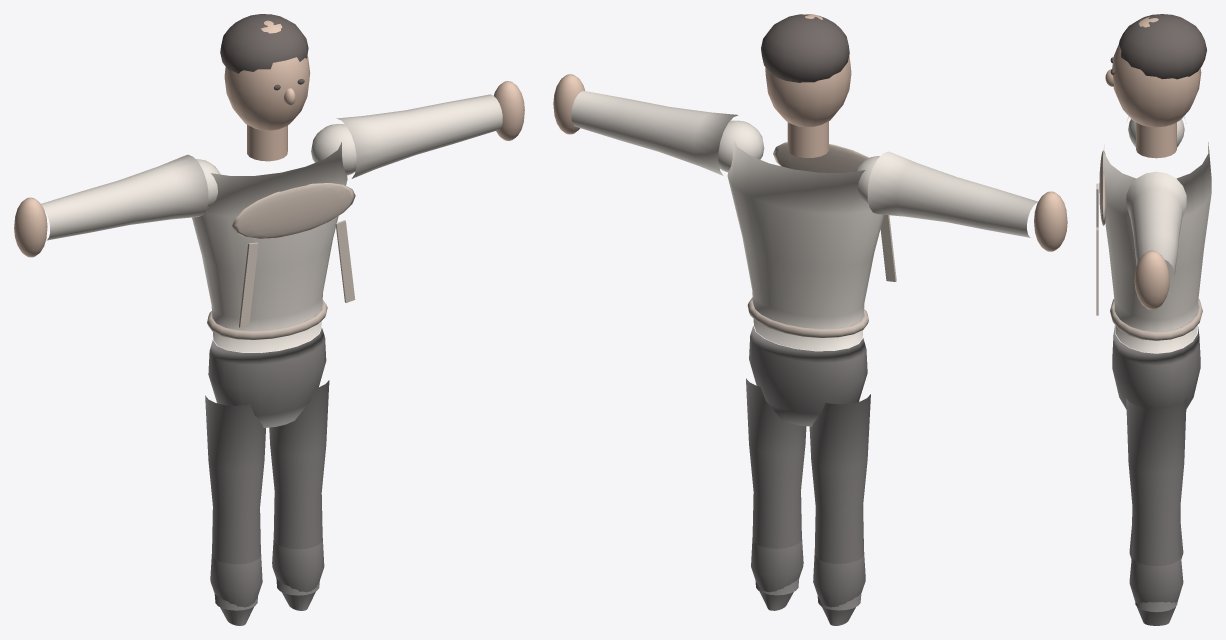
The model's file is original-player-c.glb.
The picture shows the model from 3 angles, left to right: view 1: azimuth 30°, elevation 25°; view 2: azimuth 150°, elevation 25°; view 3: azimuth 270°, elevation 25°; orthographic projection.
Parts seen in each view (by area): view 1: FittedTop, FittedLeg_L, FittedArm_L, FittedLeg_R, FittedPelvis, FittedArm_R, Head, SoftChestYoke, Hair, PointedFoot_R, PointedFoot_L, Hand_L (+6 smaller); view 2: FittedTop, FittedLeg_L, FittedArm_L, FittedLeg_R, FittedPelvis, FittedArm_R, Hair, Head, PointedFoot_R, PointedFoot_L, SoftChestYoke, Hand_L (+5 smaller); view 3: FittedTop, FittedLeg_R, FittedPelvis, Hair, FittedArm_R, Head, PointedFoot_R, Hand_R, Neck, SoftWaistSeam, SoftChestYoke, SoftShoulder_L (+1 smaller).
Boxes of the visible parts, box(x1,y1,x2,y2) form: FittedTop: box(192, 142, 347, 352); FittedLeg_L: box(205, 395, 265, 610); FittedArm_L: box(41, 154, 208, 240); FittedLeg_R: box(269, 380, 329, 595); FittedPelvis: box(208, 328, 326, 427); FittedArm_R: box(336, 94, 502, 178); Head: box(224, 20, 310, 130); SoftChestYoke: box(232, 183, 355, 238); Hair: box(220, 14, 308, 73); PointedFoot_R: box(272, 538, 324, 610); PointedFoot_L: box(210, 554, 262, 625); Hand_L: box(14, 197, 47, 257); FittedTop: box(727, 138, 883, 350); FittedLeg_L: box(809, 394, 870, 610); FittedArm_L: box(867, 151, 1037, 237); FittedLeg_R: box(746, 378, 806, 595); FittedPelvis: box(749, 326, 867, 426); FittedArm_R: box(571, 90, 738, 175); Hair: box(761, 14, 849, 82); Head: box(765, 14, 851, 127); PointedFoot_R: box(751, 537, 803, 610); PointedFoot_L: box(813, 552, 865, 625); SoftChestYoke: box(773, 142, 869, 172); Hand_L: box(1034, 191, 1067, 251); FittedTop: box(1103, 142, 1211, 353); FittedLeg_R: box(1126, 398, 1186, 612); FittedPelvis: box(1112, 326, 1200, 409); Hair: box(1119, 14, 1206, 79); FittedArm_R: box(1126, 171, 1186, 274); Head: box(1112, 17, 1201, 127); PointedFoot_R: box(1129, 554, 1183, 625); Hand_R: box(1134, 250, 1169, 309); Neck: box(1136, 122, 1176, 158); SoftWaistSeam: box(1110, 299, 1202, 340); SoftChestYoke: box(1099, 150, 1106, 225); SoftShoulder_L: box(1128, 119, 1184, 147).
Size of the model in its own units: 2.46 by 2.75 by 0.4894.
